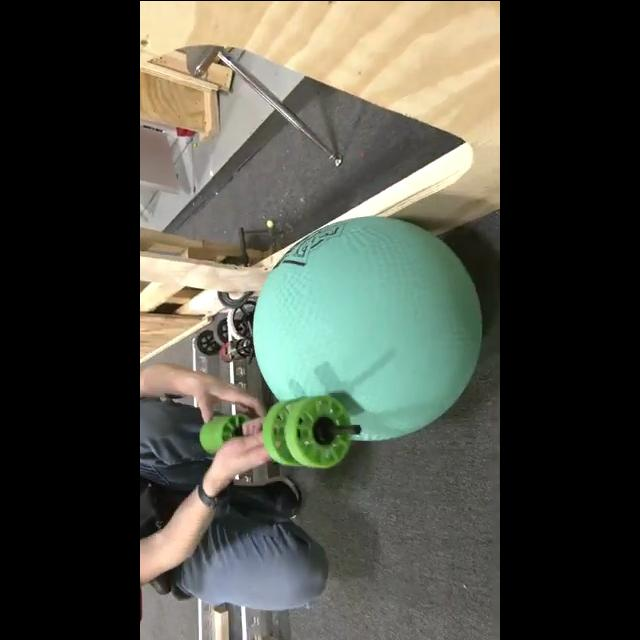ALGAE: (251, 214, 483, 442)
